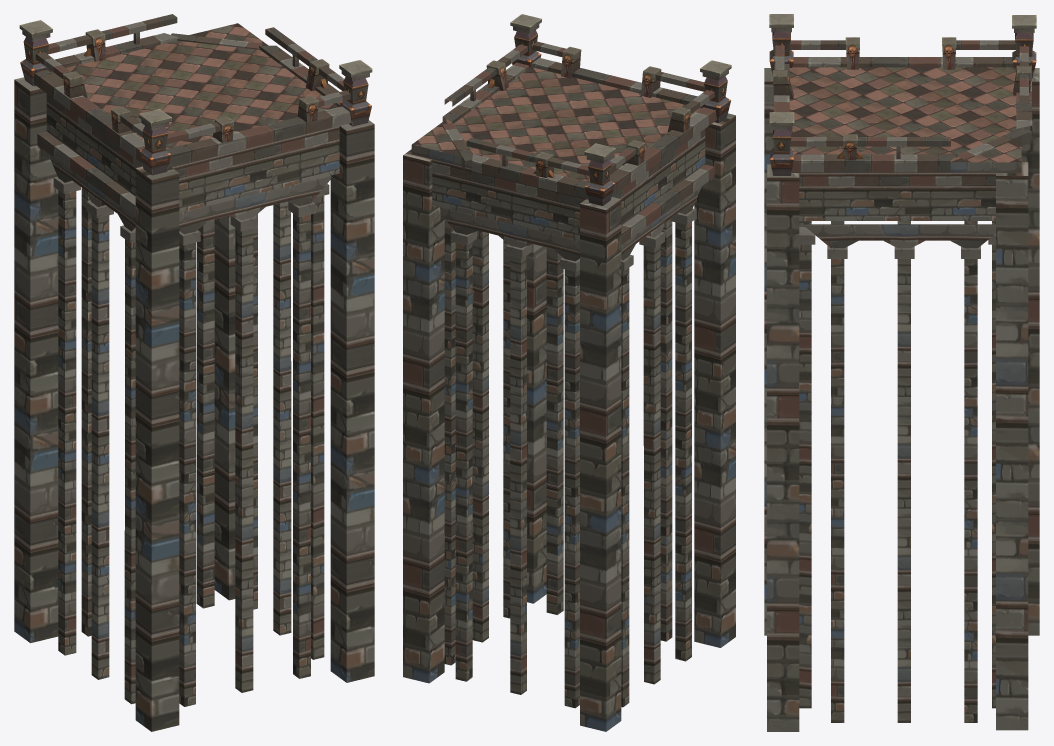
The model's file is pingtai_03.FBX.
3 renders of one model, left to right at view 1: azimuth 30°, elevation 25°; view 2: azimuth 150°, elevation 25°; view 3: azimuth 270°, elevation 25°, orthographic. The views are drawn at different scales.
Visible parts, largest first — view 1: 对象464, Box564, Box563, Box551, Box547, Box560, Box544, Box561; view 2: 对象464, Box564, Box563, Box547, Box551, Box544, Box560; view 3: 对象464, Box564, Box563, Box544, Box560, Box561, Box551, Box547.
Boxes of the visible parts, x1,y1,x2,y2 form: 对象464: (14,52,374,731); Box564: (51,23,338,149); Box563: (19,20,372,175); Box551: (47,14,177,54); Box547: (51,33,178,71); Box560: (265,27,344,90); Box544: (259,45,340,106); Box561: (171,33,263,49); 对象464: (403,58,735,731); Box564: (412,67,700,181); Box563: (470,14,731,205); Box547: (472,154,589,199); Box551: (466,137,589,175); Box544: (442,62,529,123); Box560: (444,44,527,106); 对象464: (764,40,1039,731); Box564: (789,67,1021,162); Box563: (769,14,1036,175); Box544: (792,154,957,172); Box560: (790,137,950,146); Box561: (956,127,1031,160); Box551: (1019,46,1028,110); Box547: (1016,65,1032,128).
Bounding box in the file's own units: 748 × 1933 × 793.
